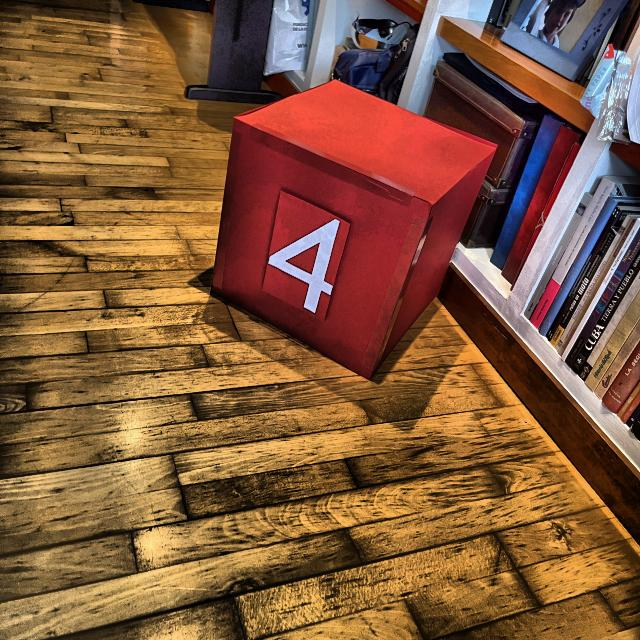four: (266, 214, 342, 315)
red box: (208, 80, 494, 382)
